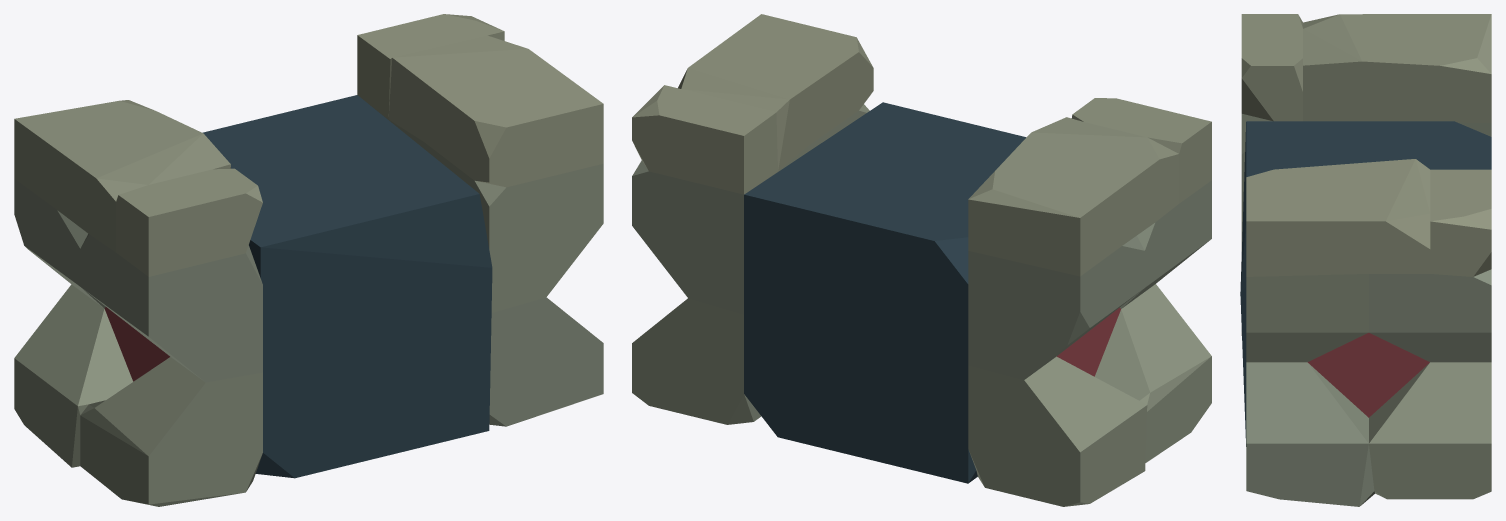
Rendered from bridge_element_1x1x1_2.fbx.
3 renders of one model, left to right at view 1: azimuth 30°, elevation 25°; view 2: azimuth 150°, elevation 25°; view 3: azimuth 270°, elevation 25°, orthographic. The views are drawn at different scales.
Visible parts, largest first — view 1: bridge_element_1x1x1_2; view 2: bridge_element_1x1x1_2; view 3: bridge_element_1x1x1_2.
Boxes of the visible parts, bbox=[...] form: bridge_element_1x1x1_2: bbox=[14, 14, 603, 506]; bridge_element_1x1x1_2: bbox=[632, 14, 1211, 506]; bridge_element_1x1x1_2: bbox=[1240, 14, 1491, 506].
Size of the model in its own units: 204 by 131 by 102.
